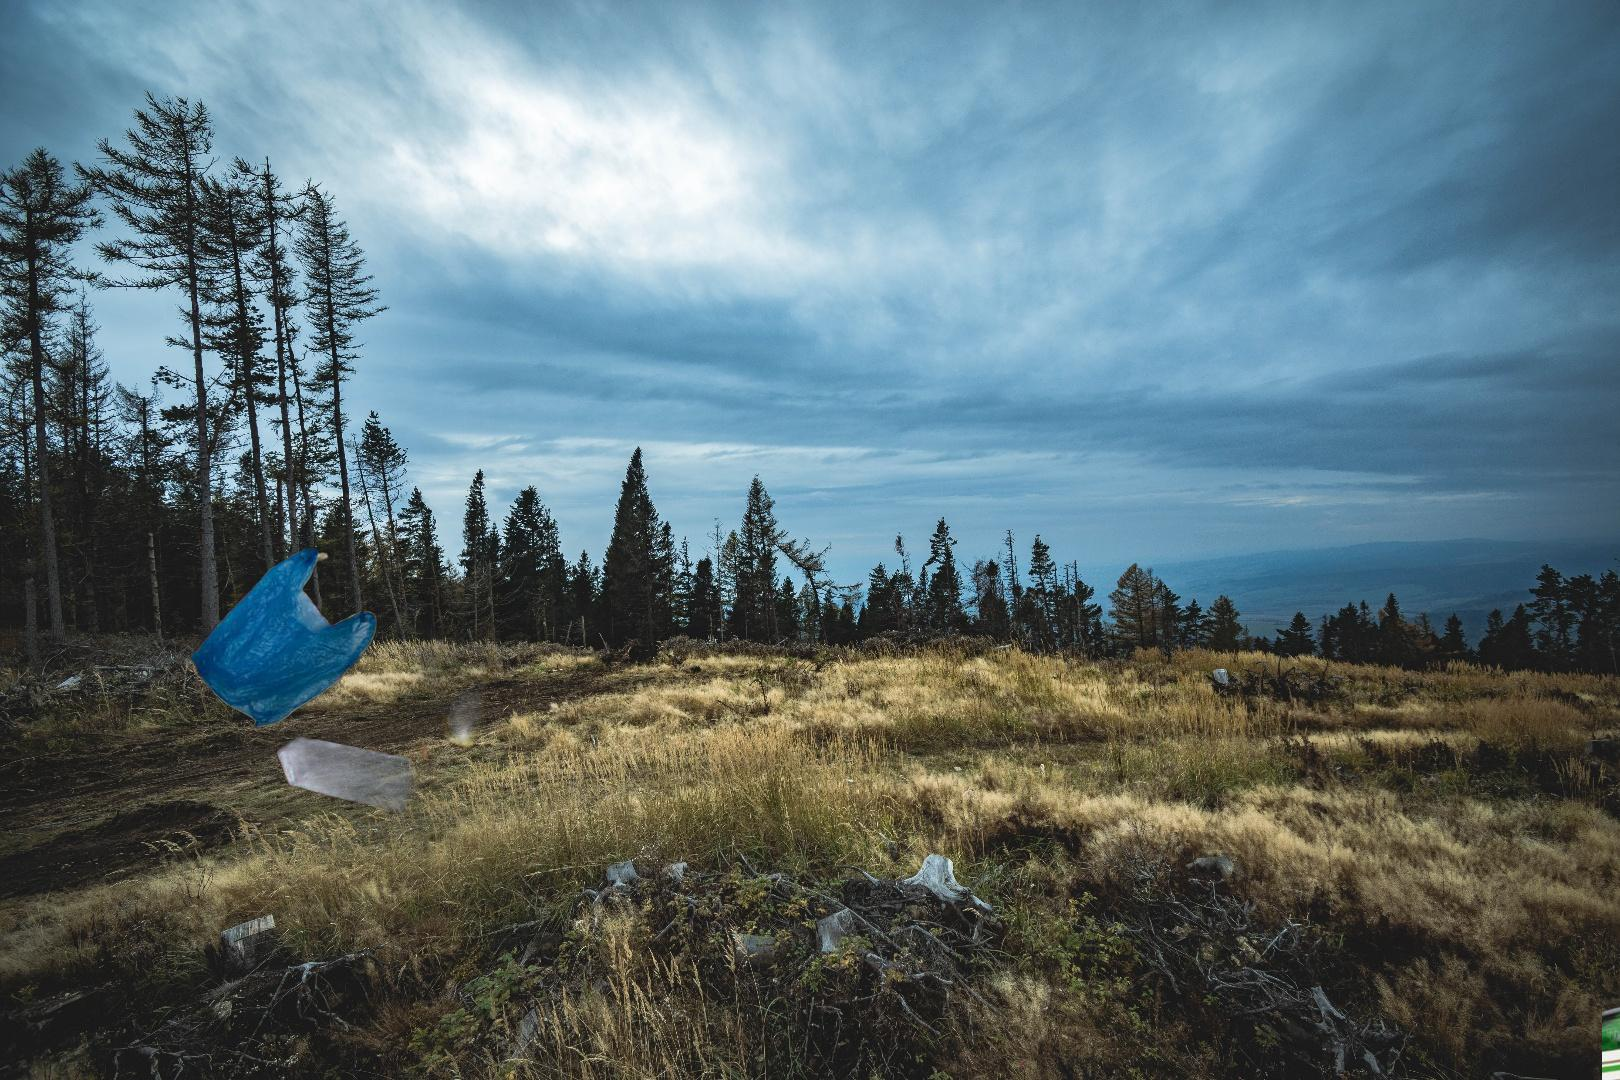glass: (1602, 990, 1620, 1080)
plastic-bag: (252, 573, 533, 873), (188, 544, 378, 729)
